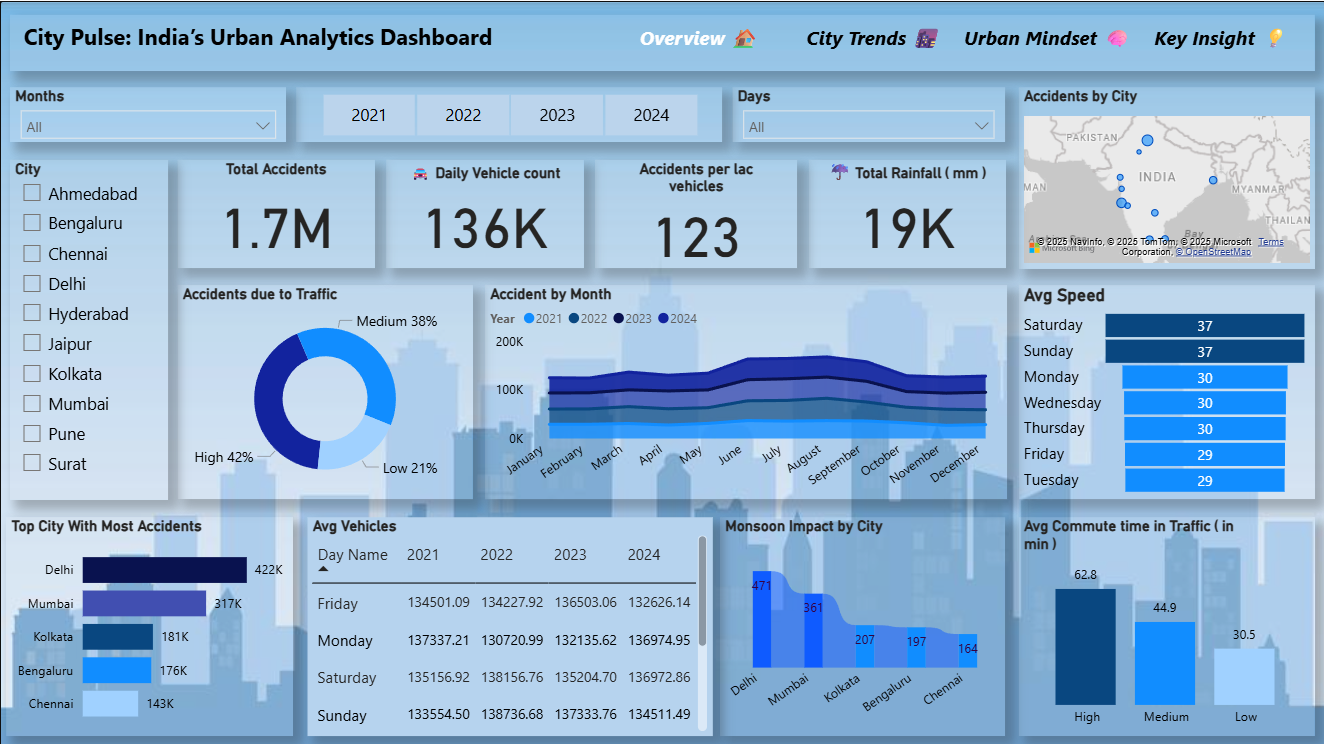

The dashboard page shown, as its layout file describes it:
{"tool":"powerbi","page":{"name":"Overview 🏠","canvas":[1280,720],"ordinal":0},"visuals":[{"type":"shape","box":[9.9,13.6,1259.3,54.3],"z":0},{"type":"stackedAreaChart","title":"Accident by Month","fields":{"Category":["Date Table.Month Name"],"Y":["Sum(Data.Accident_reported)"],"Series":["Date Table.Year"]},"box":[467.9,274.1,503.7,207.4],"z":1000},{"type":"map","title":"Accidents by City","fields":{"Category":["Data.City"],"Size":["Sum(Data.Accident_reported)"]},"box":[983.2,83.2,285.9,190.6],"z":2000},{"type":"barChart","title":"Top City With Most Accidents","fields":{"Category":["Data.City"],"Y":["Sum(Data.Accident_reported)"]},"box":[6.2,498.8,276.5,211.1],"z":3000},{"type":"card","title":"Total Accidents ","fields":{"Values":["Sum(Data.Accident_reported)"]},"box":[171.6,153.1,188.9,104.9],"z":4000},{"type":"donutChart","title":"Accidents due to Traffic ","fields":{"Category":["Data.Traffic_Density"],"Y":["Sum(Data.Accident_reported)"]},"box":[171.6,274.1,285.2,207.4],"z":5000},{"type":"ribbonChart","fields":{"Category":["Data.City"],"Y":["Data.Monsoon Impact"]},"box":[695.1,498.8,275.3,211.1],"z":6000},{"type":"textbox","box":[6,14.5,486.2,43.4],"z":7000},{"type":"slicer","fields":{"Values":["Date Table.Year"]},"box":[286.4,82.7,411.1,53.1],"z":8000},{"type":"slicer","title":"City","fields":{"Values":["Data.City"]},"box":[9.9,153.1,153.1,328.4],"z":9000},{"type":"slicer","title":"Days","fields":{"Values":["Date Table.Day Name"]},"box":[707,83.2,263,53.1],"z":10000},{"type":"columnChart","title":"Avg Commute time in Traffic ( in min )","fields":{"Category":["Data.Traffic_Density"],"Y":["Avg(Data.Commute_time_min)"]},"box":[983.2,498.3,285.9,211.1],"z":11000},{"type":"card","title":"🚘 Daily Vehicle count ","fields":{"Values":["Avg(Data.Vehicle_count)"]},"box":[372.8,153.2,182.2,105],"z":12000},{"type":"pageNavigator","box":[589.9,13.3,674.4,44.6],"z":13000},{"type":"slicer","title":"Months","fields":{"Values":["Date Table.Month Name"]},"box":[9.9,82.7,266.7,53.1],"z":14000},{"type":"pivotTable","title":"Avg Vehicles ","fields":{"Rows":["Date Table.Day Name"],"Values":["Avg(Data.Vehicle_count)"],"Columns":["Date Table.Year"]},"box":[296.8,498.3,390.9,211.1],"z":15000},{"type":"card","title":"☔ Total Rainfall ( in mm )","fields":{"Values":["Sum(Data.Rainfall_mm)"]},"box":[780.6,153.2,189.4,105],"z":16000},{"type":"card","title":"Avg Accidents per lac vehicles","fields":{"Values":["Data.Accident Rate"]},"box":[563.4,153.2,203.9,105],"z":17000},{"type":"funnel","title":"Avg Speed ","fields":{"Category":["Date Table.Day Name"],"Y":["Avg(Data.Avg_Speed_Km)"]},"box":[983.2,273.9,285.9,207.5],"z":18000}]}

Visuals, with their boxes in screenshot pixels (x1, y1, x2, y2), scaled from the page's 1280x720 canvas onto the 1324x744 screenshot:
shape: locate(10, 14, 1313, 70)
"Accident by Month" stackedAreaChart: locate(484, 283, 1005, 498)
"Accidents by City" map: locate(1017, 86, 1313, 283)
"Top City With Most Accidents" barChart: locate(6, 515, 292, 734)
"Total Accidents " card: locate(177, 158, 373, 267)
"Accidents due to Traffic " donutChart: locate(177, 283, 473, 498)
ribbonChart - Data.City x Data.Monsoon Impact: locate(719, 515, 1004, 734)
textbox: locate(6, 15, 509, 60)
slicer - Date Table.Year: locate(296, 85, 721, 140)
"City" slicer: locate(10, 158, 169, 498)
"Days" slicer: locate(731, 86, 1003, 141)
"Avg Commute time in Traffic ( in min )" columnChart: locate(1017, 515, 1313, 733)
"🚘 Daily Vehicle count " card: locate(386, 158, 574, 267)
pageNavigator: locate(610, 14, 1308, 60)
"Months" slicer: locate(10, 85, 286, 140)
"Avg Vehicles " pivotTable: locate(307, 515, 711, 733)
"☔ Total Rainfall ( in mm )" card: locate(807, 158, 1003, 267)
"Avg Accidents per lac vehicles" card: locate(583, 158, 794, 267)
"Avg Speed " funnel: locate(1017, 283, 1313, 497)
